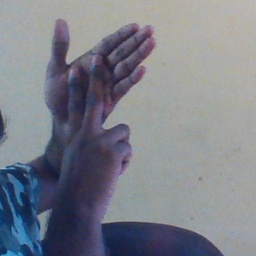N: (32, 12, 159, 177)
